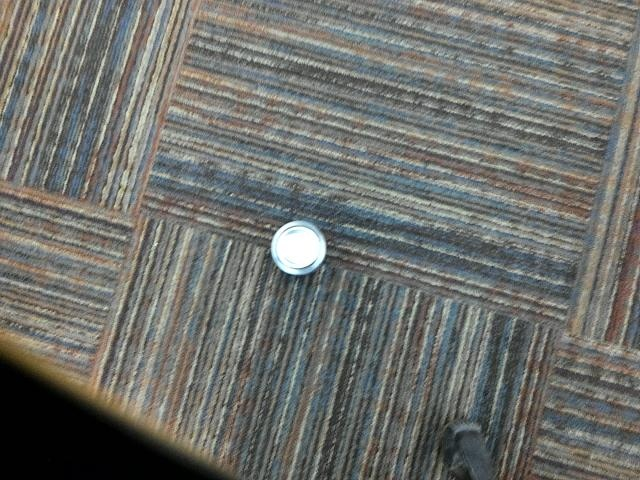can: (264, 216, 331, 289)
